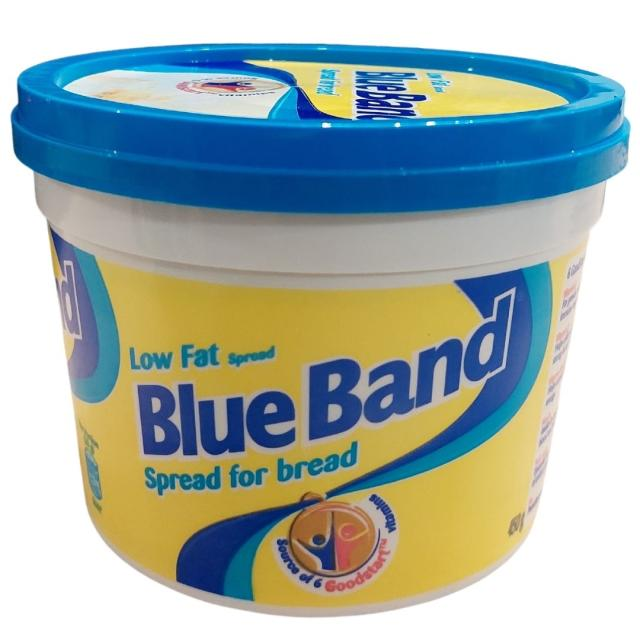butter: (10, 41, 630, 617)
